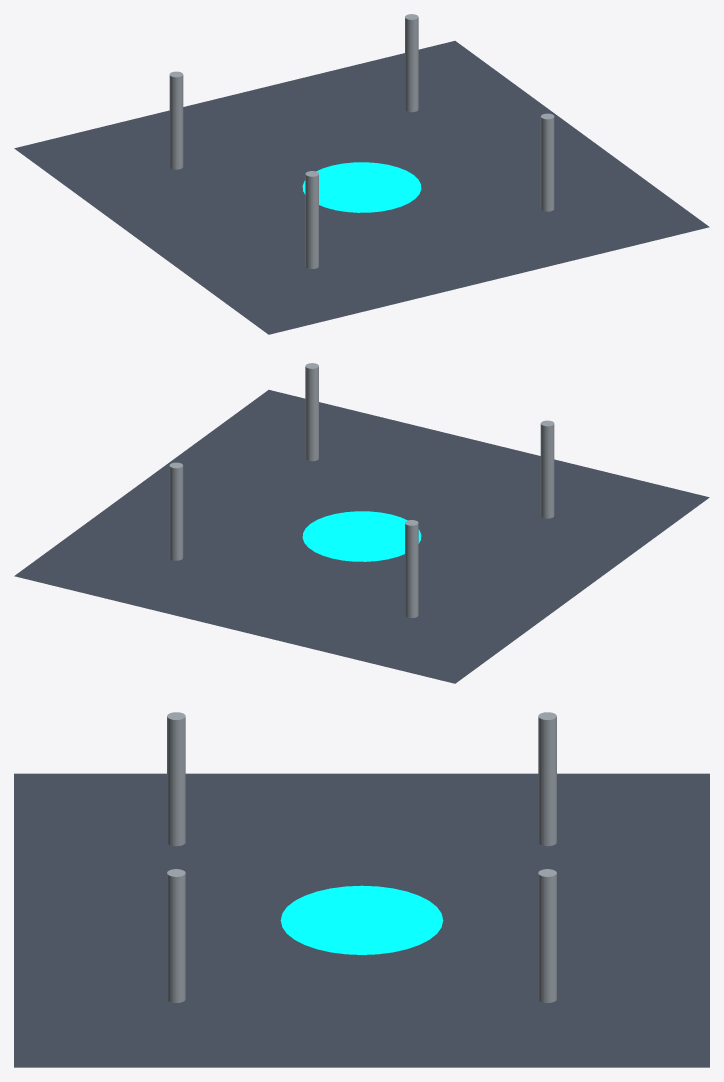
The model's file is environment.glb.
3 views of the same model, one above another, from view 1: azimuth 30°, elevation 25°; view 2: azimuth 150°, elevation 25°; view 3: azimuth 270°, elevation 25° (orthographic). The views are drawn at different scales.
Parts seen in each view (by area): view 1: Floor, PlatformRing, Pillar_3, Pillar_2, Pillar_4, Pillar_1; view 2: Floor, PlatformRing, Pillar_4, Pillar_1, Pillar_3, Pillar_2; view 3: Floor, PlatformRing, Pillar_1, Pillar_2, Pillar_3, Pillar_4.
Boxes of the visible parts, x1=… form: Floor: x1=14, y1=41, x2=709, y2=334; PlatformRing: x1=302, y1=162, x2=421, y2=212; Pillar_3: x1=540, y1=113, x2=554, y2=211; Pillar_2: x1=169, y1=71, x2=183, y2=169; Pillar_4: x1=405, y1=14, x2=418, y2=112; Pillar_1: x1=305, y1=171, x2=318, y2=268; Floor: x1=14, y1=390, x2=709, y2=683; PlatformRing: x1=302, y1=511, x2=421, y2=561; Pillar_4: x1=169, y1=462, x2=183, y2=560; Pillar_1: x1=540, y1=420, x2=554, y2=518; Pillar_3: x1=305, y1=363, x2=318, y2=461; Pillar_2: x1=405, y1=520, x2=418, y2=617; Floor: x1=14, y1=773, x2=709, y2=1067; PlatformRing: x1=280, y1=885, x2=443, y2=954; Pillar_1: x1=167, y1=712, x2=185, y2=846; Pillar_2: x1=538, y1=712, x2=556, y2=846; Pillar_3: x1=167, y1=869, x2=185, y2=1002; Pillar_4: x1=538, y1=869, x2=556, y2=1002.
Size of the model in its own units: 30 by 6 by 30.
